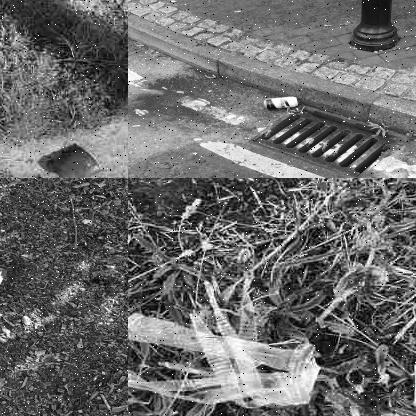metal: (266, 94, 301, 112)
plastic: (128, 287, 319, 413), (48, 142, 103, 177), (0, 262, 9, 308)
